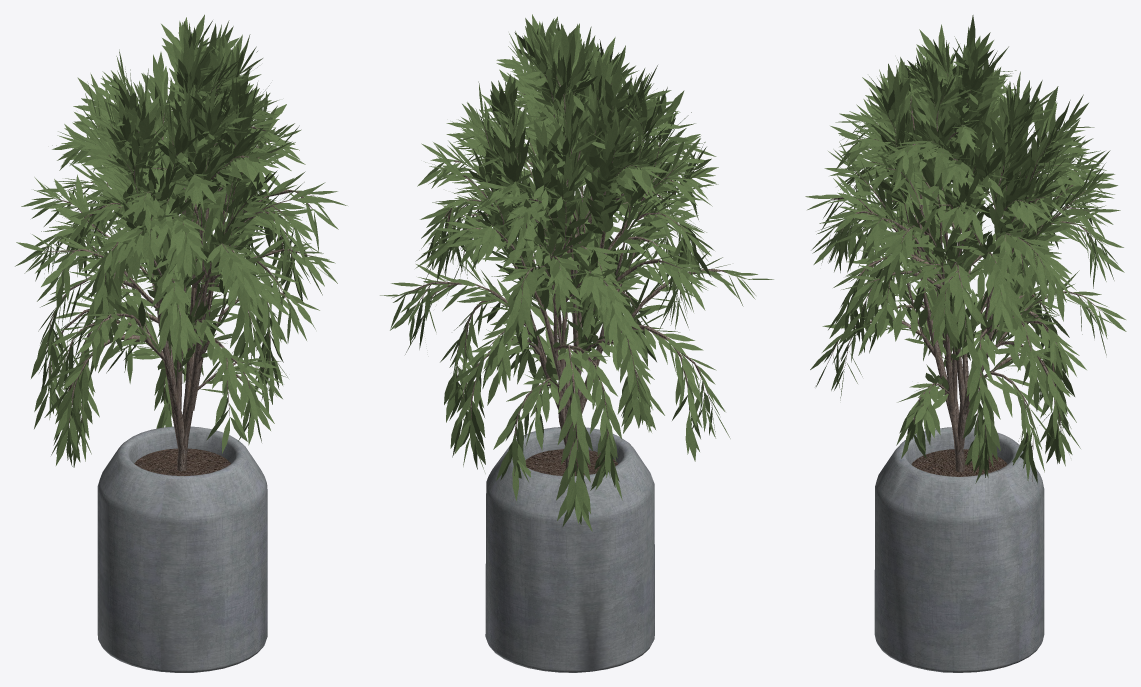
The model's file is office-pottedtree.glb.
The picture shows the model from 3 angles, left to right: view 1: azimuth 30°, elevation 25°; view 2: azimuth 150°, elevation 25°; view 3: azimuth 270°, elevation 25°; orthographic projection.
Visible parts, largest first — view 1: Cylinder_Leaves_0, Cylinder_PotMaterial_0, tree_Trunk_0, Cylinder_DirtMat_0; view 2: Cylinder_Leaves_0, Cylinder_PotMaterial_0, tree_Trunk_0, Cylinder_DirtMat_0; view 3: Cylinder_Leaves_0, Cylinder_PotMaterial_0, tree_Trunk_0, Cylinder_DirtMat_0.
Boxes of the visible parts, x1,y1,x2,y2 form: Cylinder_Leaves_0: (15, 14, 347, 467); Cylinder_PotMaterial_0: (97, 426, 267, 672); tree_Trunk_0: (45, 73, 315, 471); Cylinder_DirtMat_0: (134, 448, 230, 475); Cylinder_Leaves_0: (380, 14, 773, 531); Cylinder_PotMaterial_0: (485, 427, 654, 672); tree_Trunk_0: (404, 72, 744, 475); Cylinder_DirtMat_0: (525, 449, 617, 475); Cylinder_Leaves_0: (805, 15, 1126, 483); Cylinder_PotMaterial_0: (874, 427, 1044, 672); tree_Trunk_0: (827, 70, 1101, 481); Cylinder_DirtMat_0: (911, 449, 1007, 476).
Bounding box in the file's own units: 3.99 × 7.92 × 3.8.
Materials: 4 (4 with a texture image).
